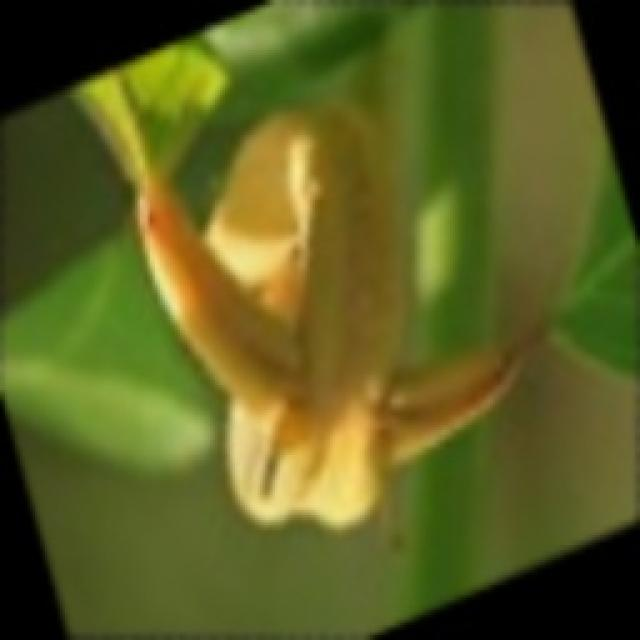Elderberry_rust: (122, 90, 540, 535)
